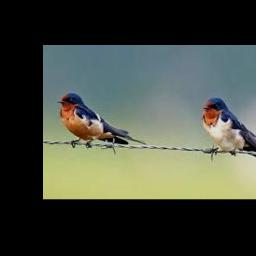Swallow: (55, 92, 146, 147), (201, 98, 256, 158)
